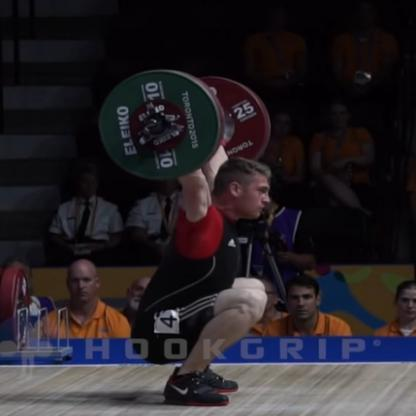Barbell: (143, 118, 162, 136)
